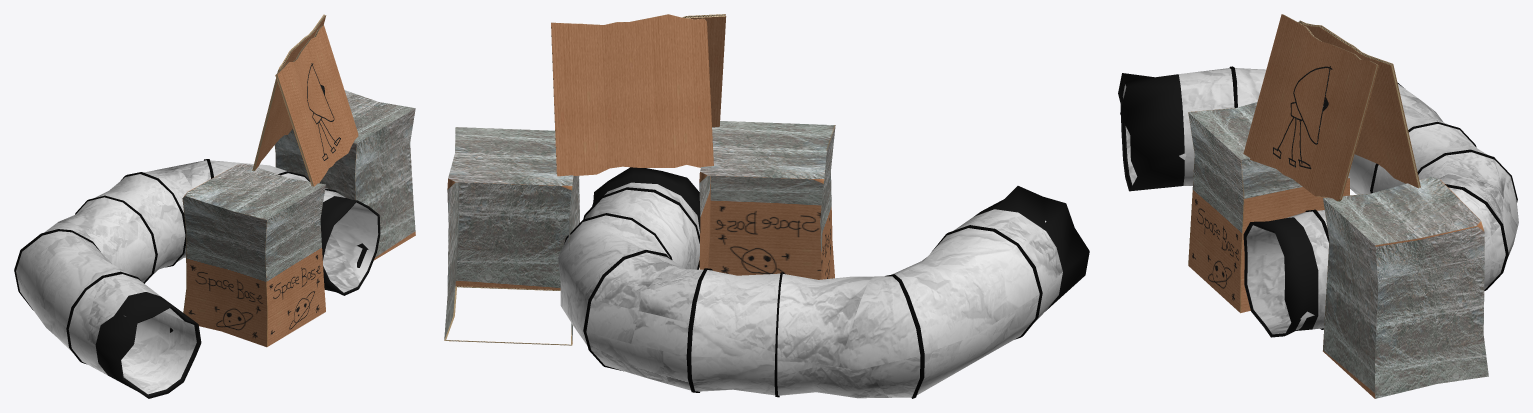
The model's file is SpaceBase.FBX.
3 views of the same model, side by side, from view 1: azimuth 30°, elevation 25°; view 2: azimuth 150°, elevation 25°; view 3: azimuth 270°, elevation 25° (orthographic). The views are drawn at different scales.
Parts seen in each view (by area): view 1: SpaceBase; view 2: SpaceBase; view 3: SpaceBase.
Part boxes in pixels (x1,y1,x2,y2): SpaceBase: (14,14,415,398); SpaceBase: (444,14,1089,398); SpaceBase: (1118,14,1518,398).
Size of the model in its own units: 7.76 by 4.3 by 5.46.
